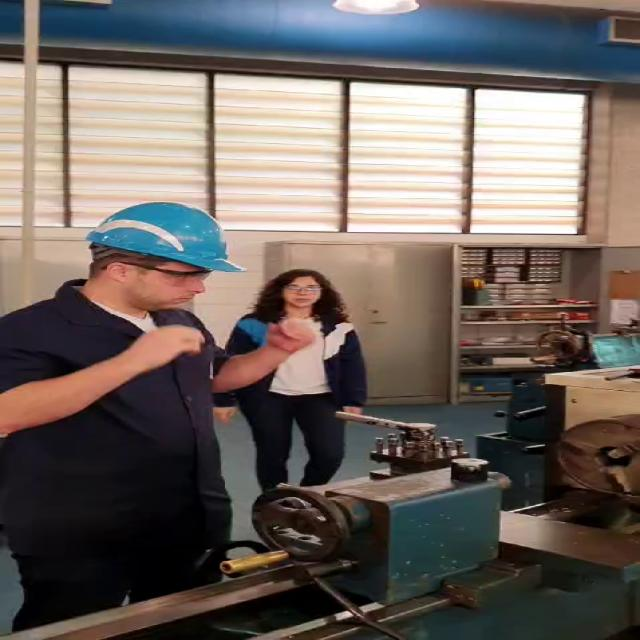oculos-epi: (99, 265, 213, 290)
sem_oculos: (278, 284, 333, 294)
